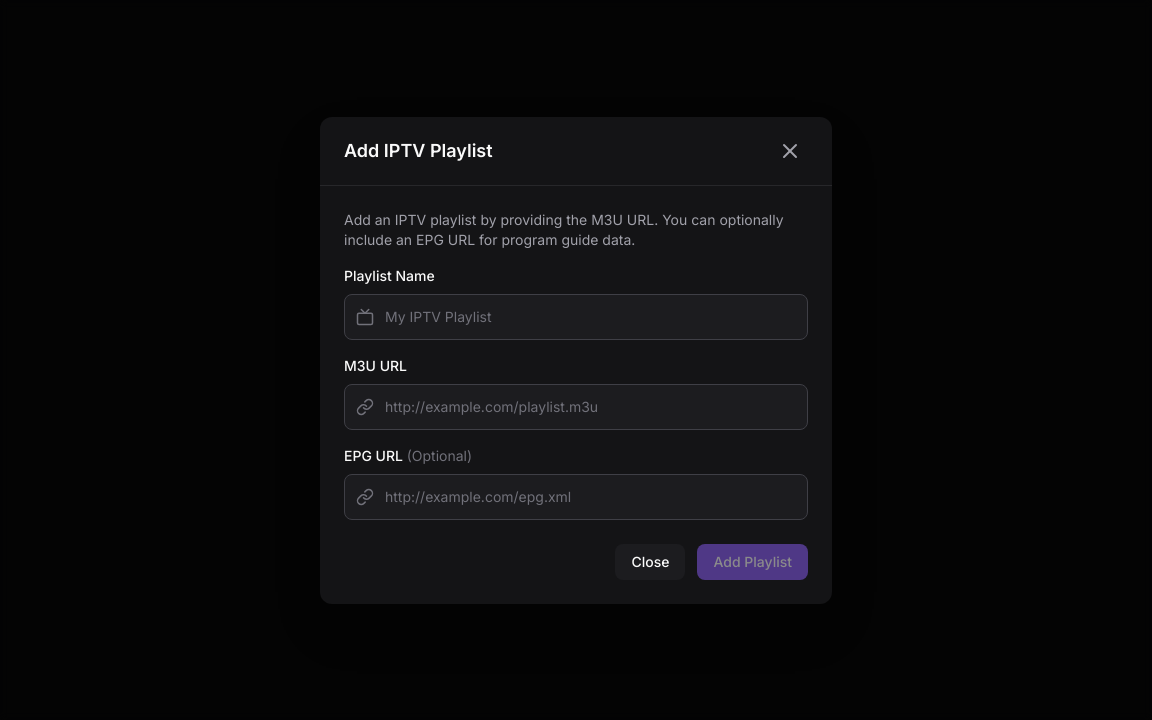
AddPlaylistModal › Form Validation › shows error when submitting with invalid M3U URL format
Type "My Playlist" into the field labelled "Playlist Name" at point(576, 316), box [344,294,808,340]
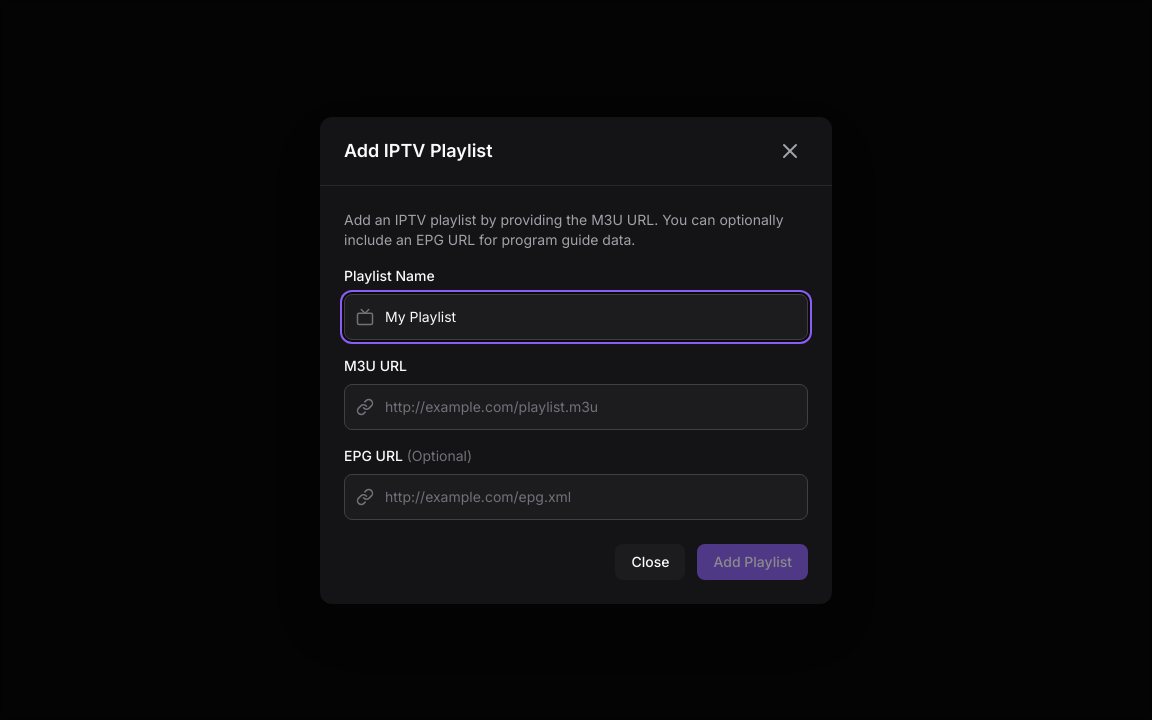
Type "not-a-valid-url" into the field labelled "M3U URL" at point(576, 406), box [344,384,808,430]
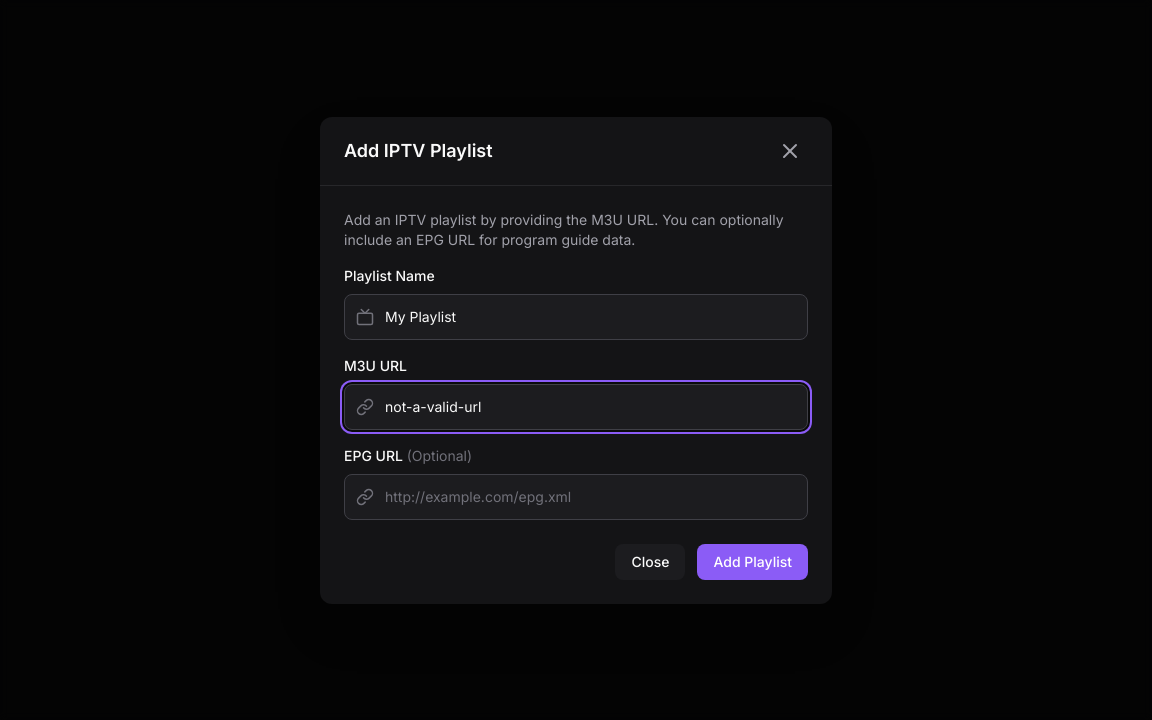
Click the button "Add Playlist" at point(753, 562), box [697,544,808,580]
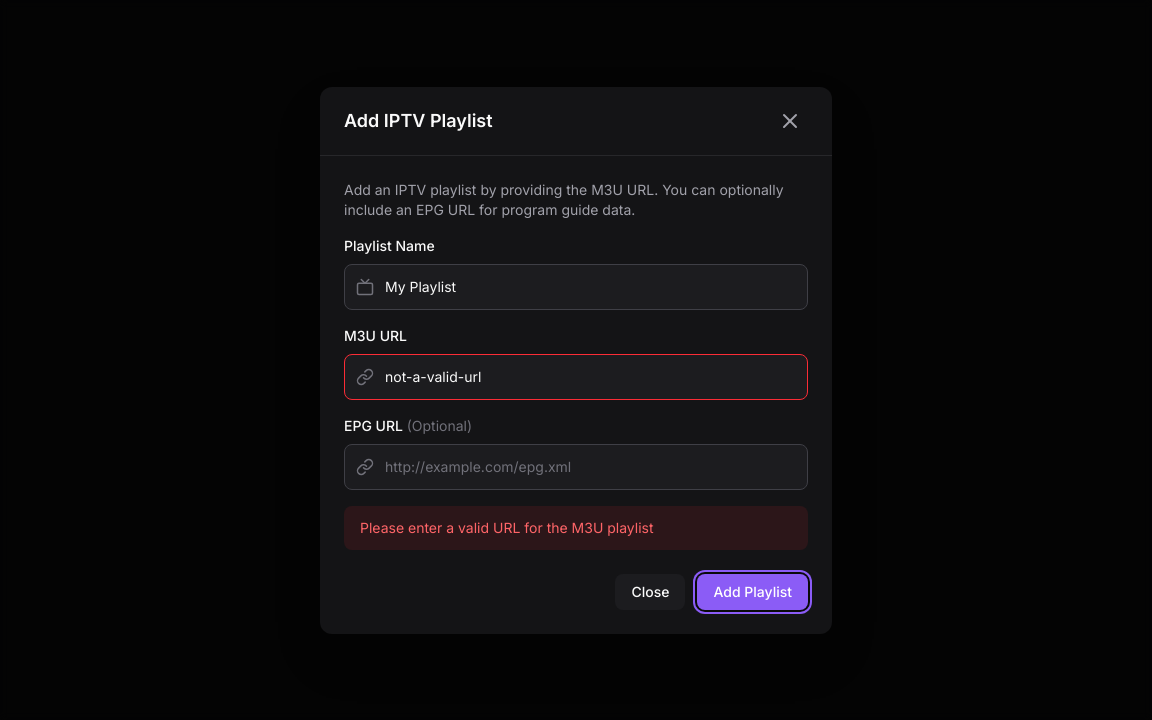
Check: the text "Please enter a valid URL for the M3U playlist" is shown, box [344,506,808,550]
